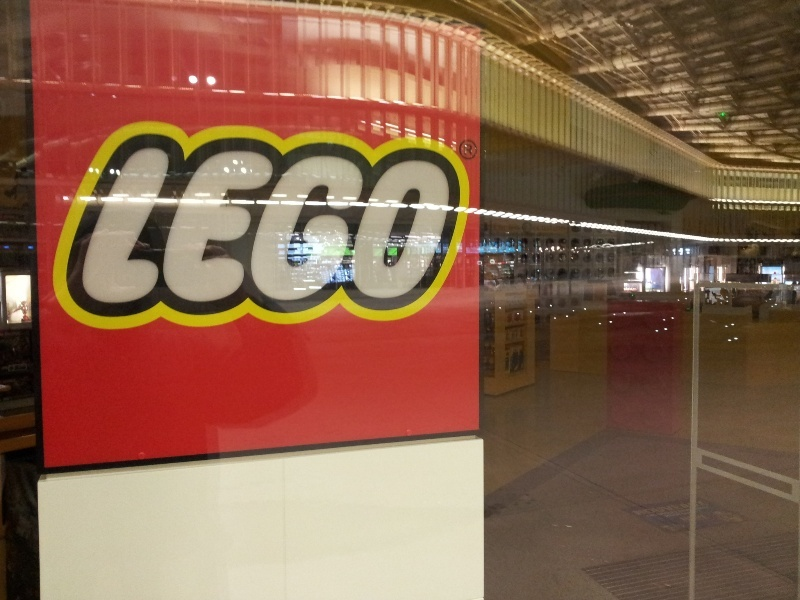text: (449, 143, 465, 309), (113, 143, 128, 309), (129, 143, 144, 309), (145, 143, 160, 309), (161, 143, 176, 309), (177, 143, 192, 309), (193, 143, 208, 309), (209, 143, 224, 309), (225, 143, 240, 309), (241, 143, 256, 309), (257, 143, 272, 309), (273, 143, 288, 309), (289, 143, 304, 309), (305, 143, 320, 309), (321, 143, 336, 309), (337, 143, 352, 309), (353, 143, 368, 309), (369, 143, 384, 309), (385, 143, 400, 309), (401, 143, 416, 309), (417, 143, 432, 309), (433, 143, 448, 309), (106, 143, 112, 309), (641, 498, 656, 517), (657, 498, 672, 517), (673, 498, 688, 517), (689, 498, 704, 517), (689, 511, 704, 525), (632, 498, 640, 517), (678, 511, 688, 525), (705, 511, 711, 525), (705, 498, 708, 517)
